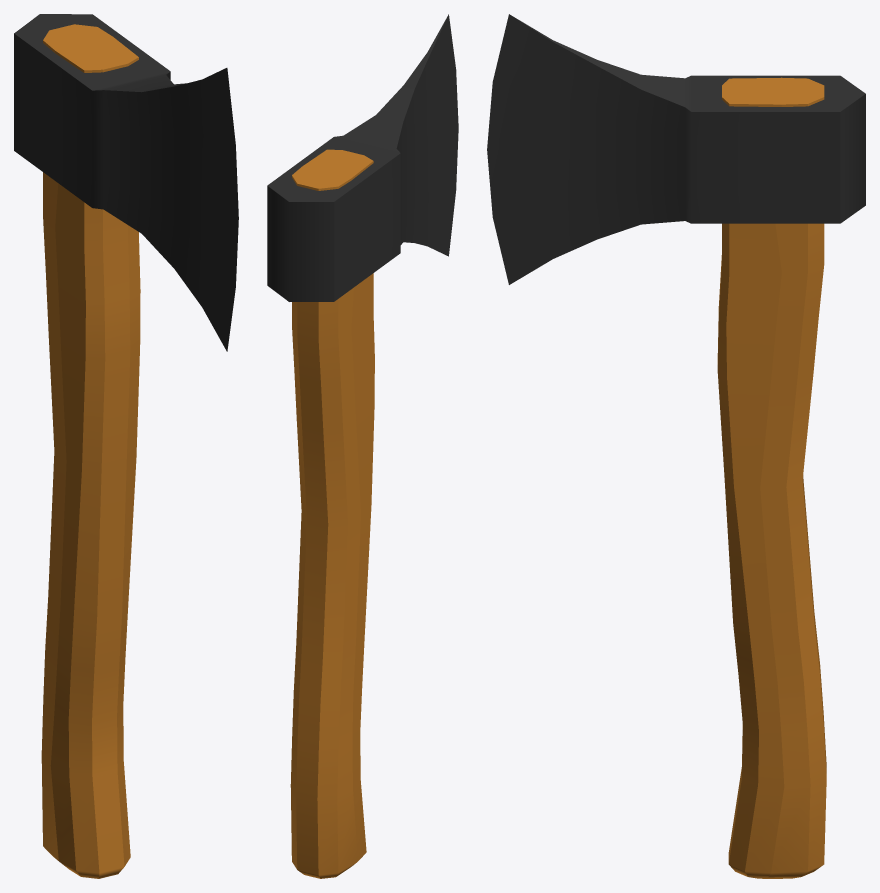
Rendered from Axe.fbx.
3 renders of one model, left to right at view 1: azimuth 30°, elevation 25°; view 2: azimuth 150°, elevation 25°; view 3: azimuth 270°, elevation 25°, orthographic. The views are drawn at different scales.
Parts seen in each view (by area): view 1: pCube2; view 2: pCube2; view 3: pCube2.
Boxes of the visible parts, x1=… form: pCube2: x1=14, y1=14, x2=238, y2=878; pCube2: x1=267, y1=14, x2=458, y2=878; pCube2: x1=487, y1=14, x2=865, y2=878.
Size of the model in its own units: 1.4 by 15.38 by 6.14.
